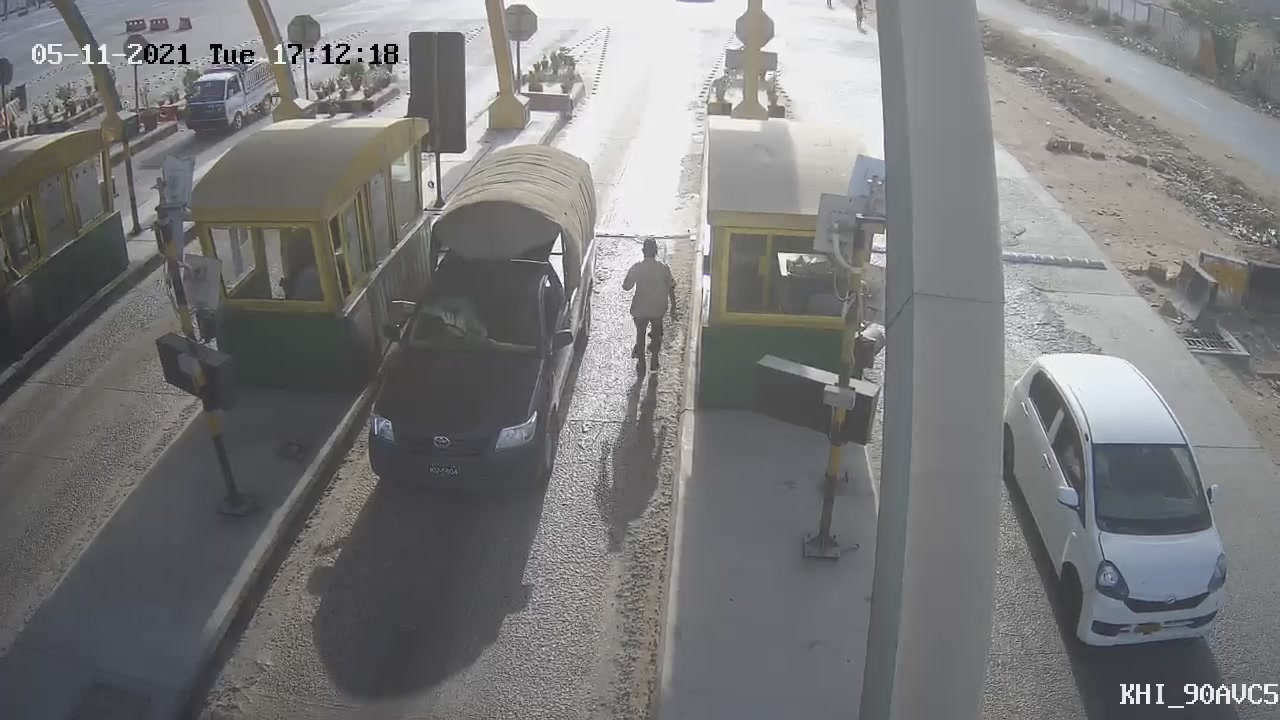F1: (351, 129, 616, 518)
